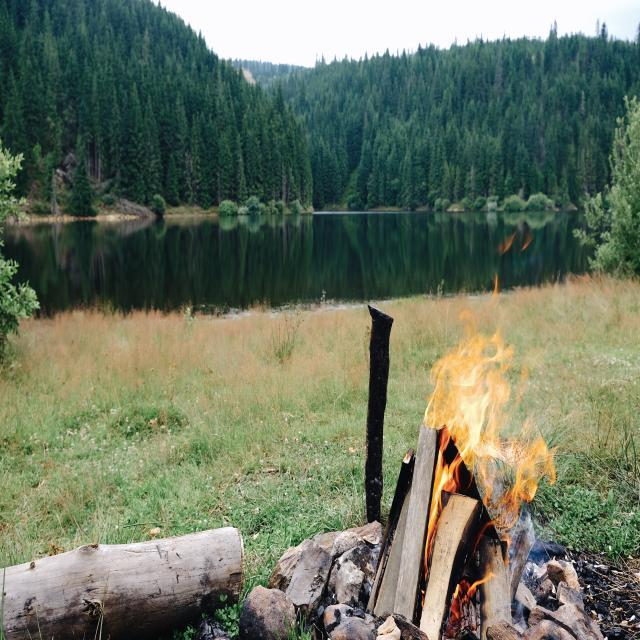Fire: (394, 227, 569, 640)
